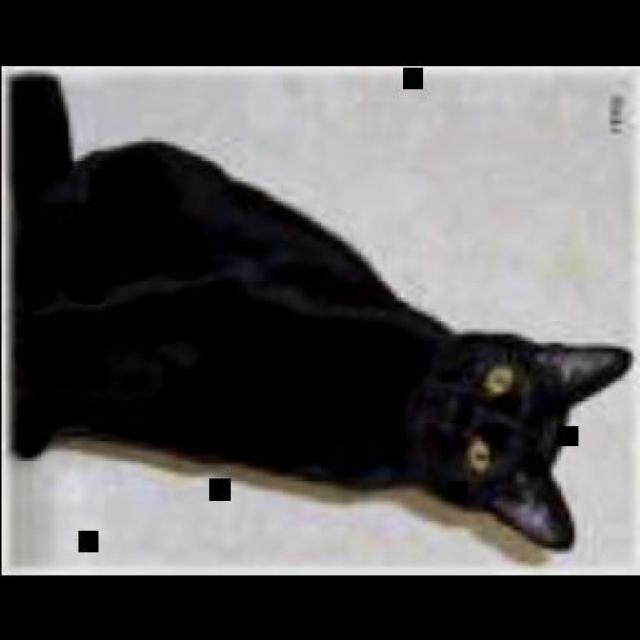unauthorized: (8, 72, 632, 551)
